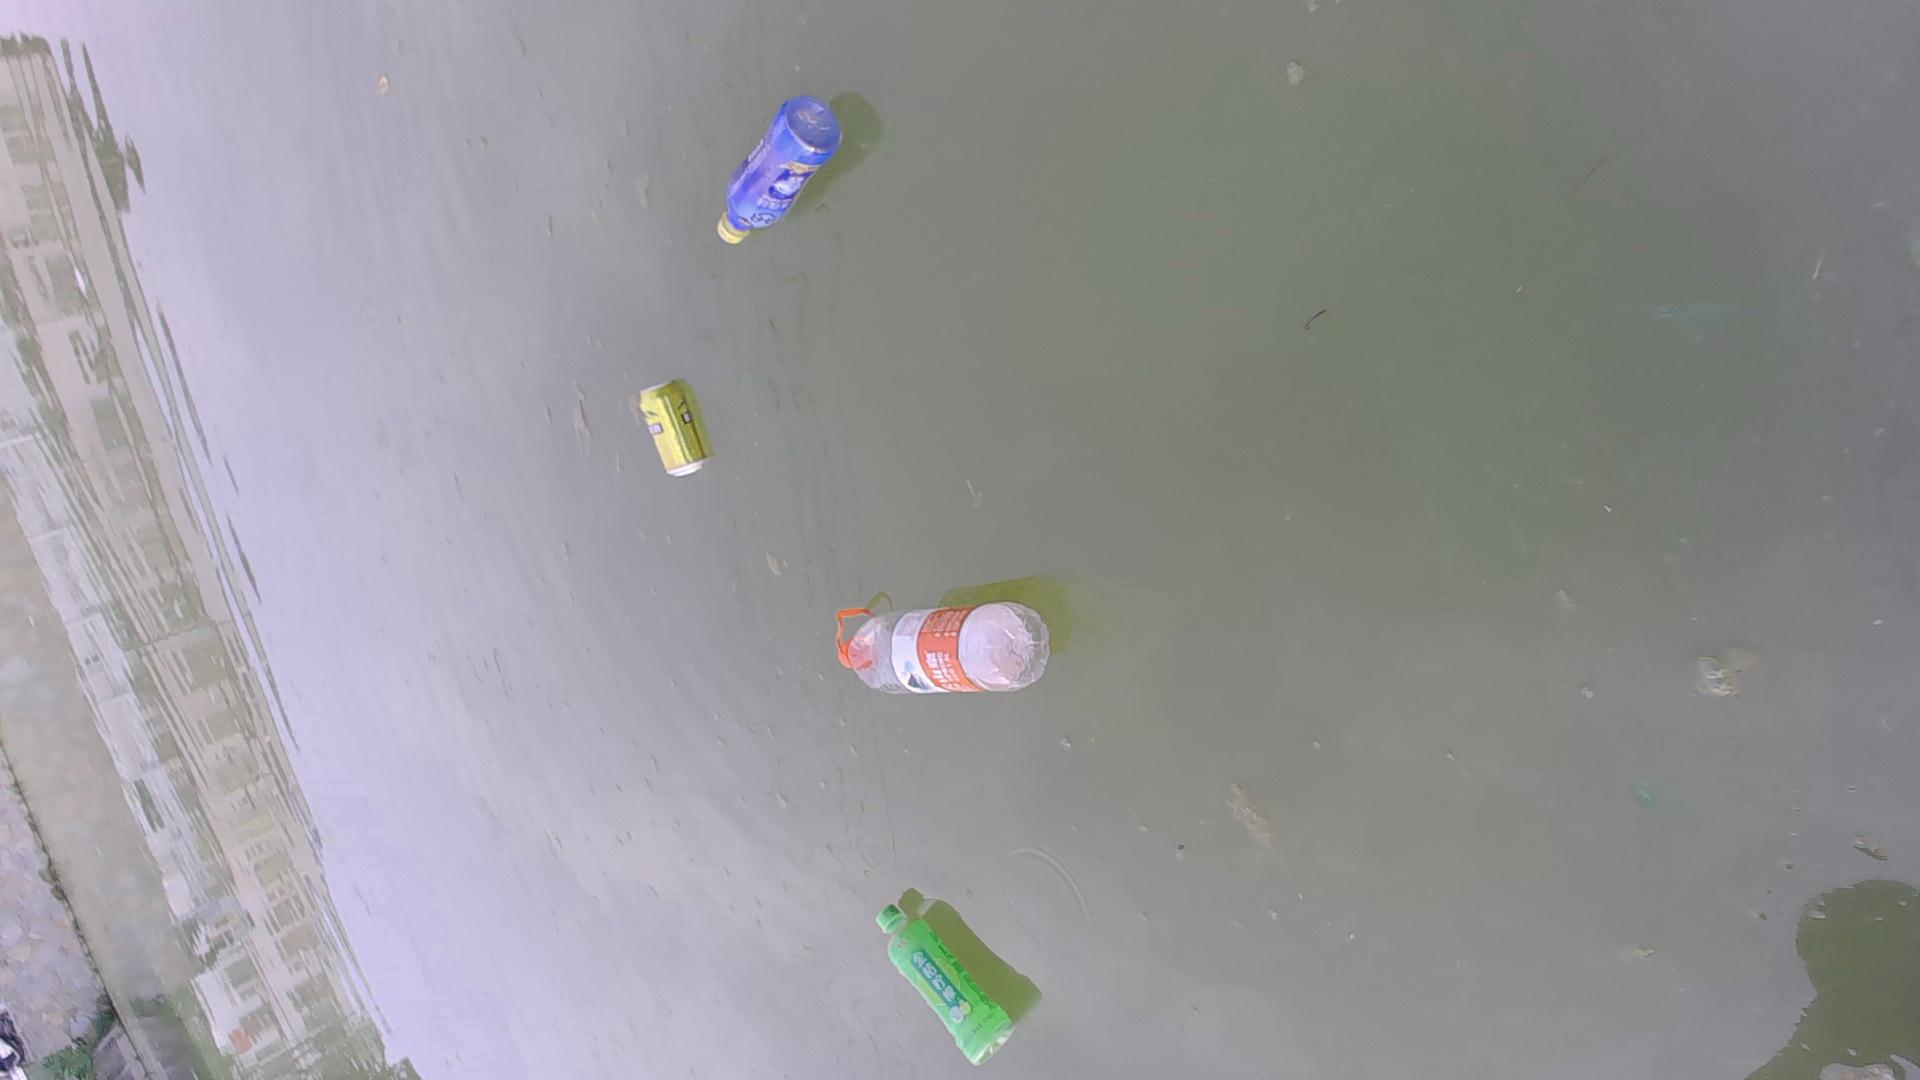Metal: (636, 371, 716, 480)
Plastic: (858, 895, 1029, 1067), (822, 587, 1059, 702), (713, 88, 848, 255)
